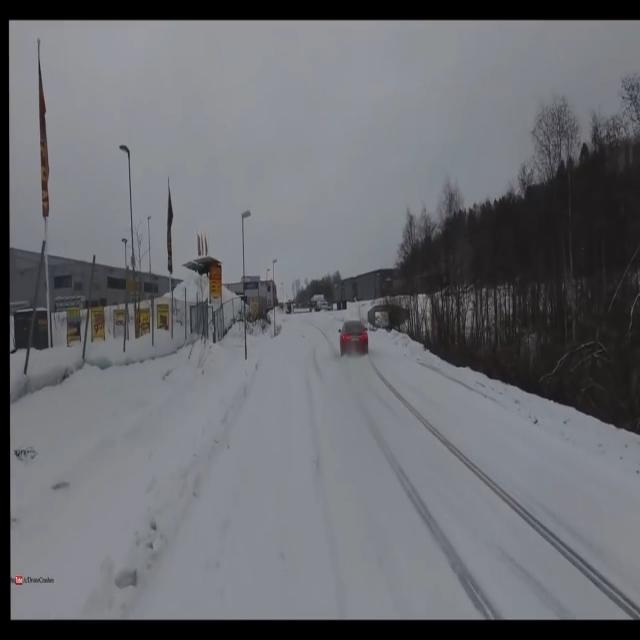Pole: (122, 145, 136, 308), (237, 208, 251, 363), (270, 250, 278, 340)
Vehicle: (336, 314, 369, 358)
